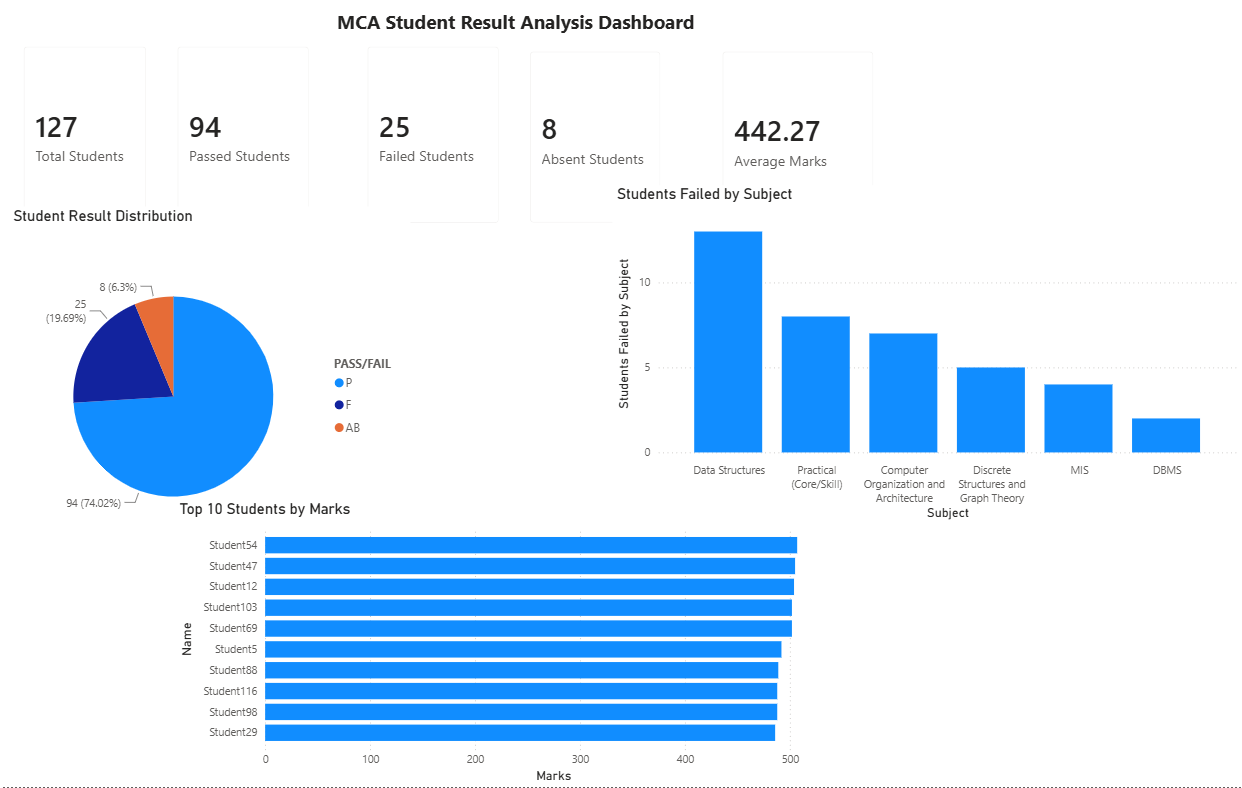

This screenshot's page, from the dashboard's own definition file:
{"tool":"powerbi","page":{"name":"Page 1","canvas":[1400,900],"ordinal":0},"visuals":[{"type":"cardVisual","fields":{"Data":["CountNonNull(Table2.S.No)"]},"box":[9.8,47.7,172.4,233.6],"z":0},{"type":"cardVisual","fields":{"Data":["Table2.Pass Count"]},"box":[182.5,48,182.5,233.3],"z":1000},{"type":"cardVisual","fields":{"Data":["Table2.Fail Count"]},"box":[397.9,48,182.5,233.3],"z":2000},{"type":"cardVisual","fields":{"Data":["Table2.Absent Count"]},"box":[580.4,53.5,181.1,227.8],"z":3000},{"type":"cardVisual","fields":{"Data":["Avg(Table2.Marks)"]},"box":[797.3,53.5,204.5,231.9],"z":4000},{"type":"pieChart","title":"Student Result Distribution","fields":{"Category":["Table2.PASS/FAIL"],"Y":["CountNonNull(Table2.PASS/FAIL)"]},"box":[9.2,244.6,452.4,409.6],"z":5000},{"type":"columnChart","title":"Students Failed by Subject ","fields":{"Y":["Sum(Table.Fail count)"],"Category":["Table.Subject"]},"box":[690.9,221.6,709.2,382.1],"z":6000},{"type":"textbox","box":[9.8,0,1192.3,64.8],"z":7000},{"type":"barChart","title":"Top 10 Students by Marks","fields":{"Category":["Table2.Name"],"Y":["Sum(Table2.Marks)"]},"box":[197.2,576.3,767.3,324.1],"z":7001}]}

Visuals, with their boxes in screenshot pixels (x1, y1, x2, y2), scaled from the page's 1400x900 canvas onto the 1242x788 screenshot:
cardVisual - CountNonNull(Table2.S.No): (left=9, top=42, right=162, bottom=246)
cardVisual - Table2.Pass Count: (left=162, top=42, right=324, bottom=246)
cardVisual - Table2.Fail Count: (left=353, top=42, right=515, bottom=246)
cardVisual - Table2.Absent Count: (left=515, top=47, right=676, bottom=246)
cardVisual - Avg(Table2.Marks): (left=707, top=47, right=889, bottom=250)
"Student Result Distribution" pieChart: (left=8, top=214, right=410, bottom=573)
"Students Failed by Subject " columnChart: (left=613, top=194, right=1241, bottom=529)
textbox: (left=9, top=0, right=1066, bottom=57)
"Top 10 Students by Marks" barChart: (left=175, top=505, right=856, bottom=787)
